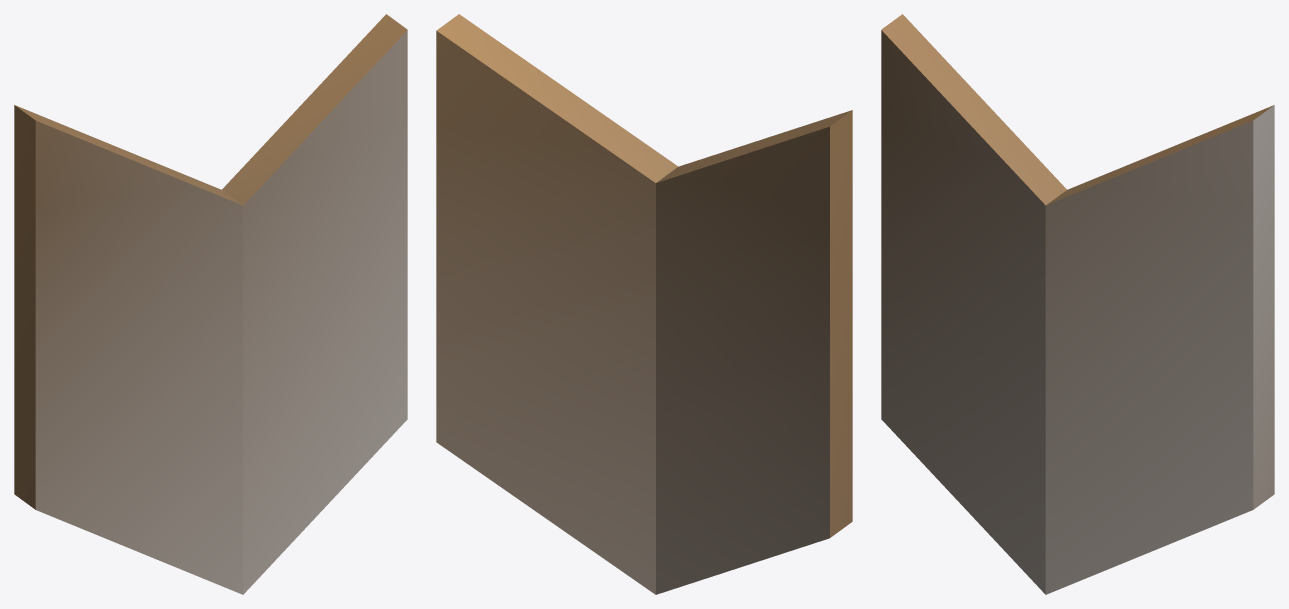
The model's file is ArmorLvl2.fbx.
3 views of the same model, side by side, from view 1: azimuth 30°, elevation 25°; view 2: azimuth 150°, elevation 25°; view 3: azimuth 330°, elevation 25° (orthographic). The views are drawn at different scales.
Visible parts, largest first — view 1: armor_lvl2; view 2: armor_lvl2; view 3: armor_lvl2.
Boxes of the visible parts, x1,y1,x2,y2 form: armor_lvl2: [14, 14, 407, 594]; armor_lvl2: [436, 14, 852, 594]; armor_lvl2: [881, 14, 1274, 594].
Size of the model in its own units: 1.4 by 1.81 by 0.2794.
